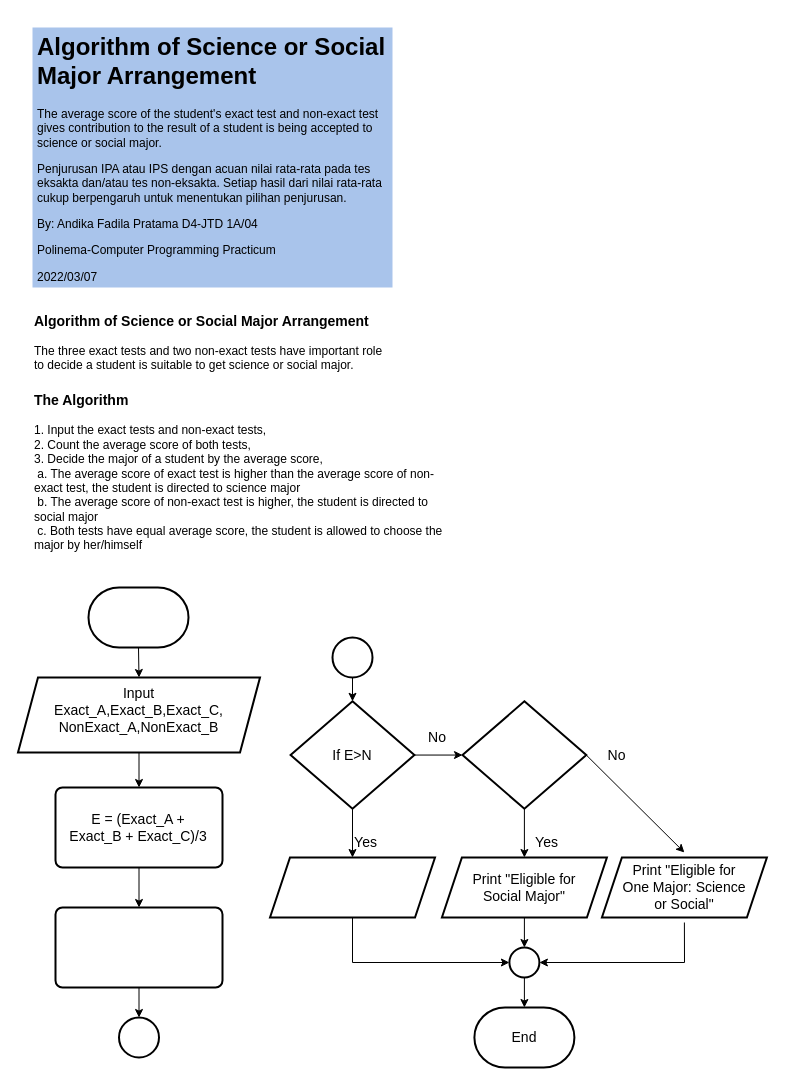
Some shapes in this 785 by 1085 pixel diagram are drawn without their labels. The box of each missing label's shape, as (x1, y1, x2, y2) in pixels:
If E<N: (461, 700, 587, 809)
N = (NonExact_A + NonExact_B)/2: (54, 906, 223, 988)
Print "Eligible for Science Major": (268, 856, 436, 918)
Start: (87, 586, 189, 648)
